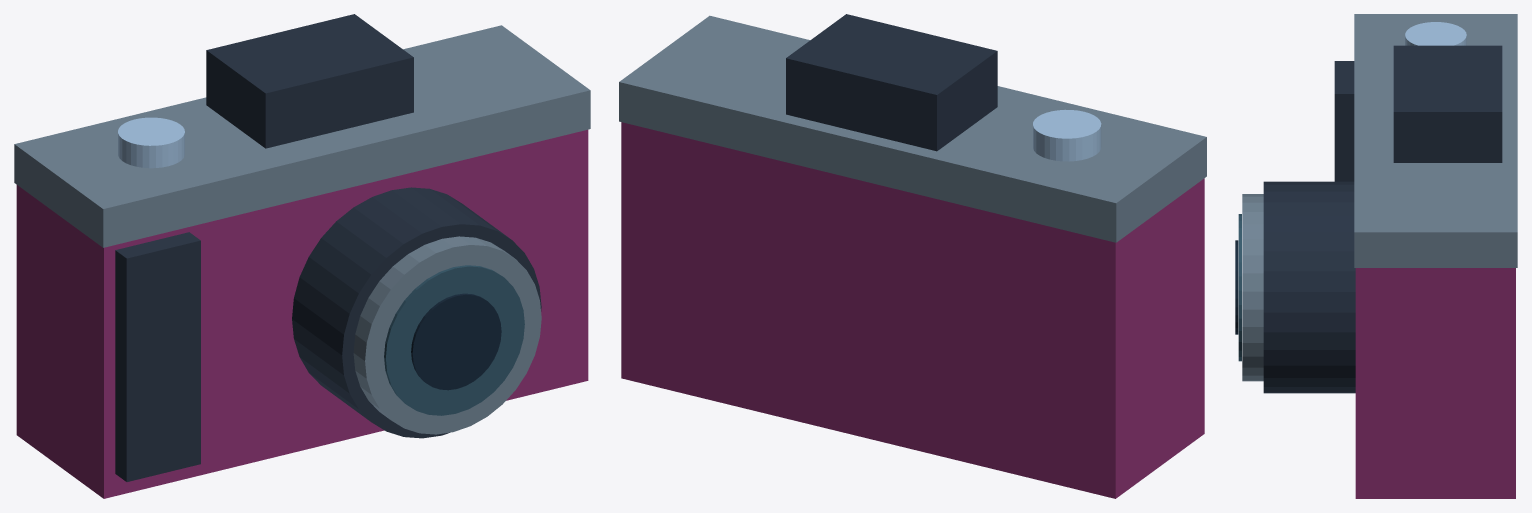
The model's file is camera.glb.
3 renders of one model, left to right at view 1: azimuth 30°, elevation 25°; view 2: azimuth 150°, elevation 25°; view 3: azimuth 270°, elevation 25°, orthographic. The views are drawn at different scales.
Visible parts, largest first — view 1: body, silver top, viewfinder, grip, lens barrel, lens ring, lens face, inner glass, shutter; view 2: body, silver top, viewfinder, shutter; view 3: body, silver top, lens barrel, viewfinder, lens ring, grip, shutter, lens face, inner glass.
Part boxes in pixels (<box>): body: <box>16,129,588,498</box>; silver top: <box>14,25,590,247</box>; viewfinder: <box>206,14,413,148</box>; grip: <box>115,232,200,481</box>; lens barrel: <box>292,187,541,438</box>; lens ring: <box>353,236,541,434</box>; lens face: <box>384,265,524,415</box>; inner glass: <box>411,293,501,390</box>; shutter: <box>118,117,184,168</box>; body: <box>621,122,1204,498</box>; silver top: <box>619,15,1206,242</box>; viewfinder: <box>786,14,997,151</box>; shutter: <box>1033,109,1101,161</box>; body: <box>1355,268,1515,498</box>; silver top: <box>1354,14,1517,267</box>; lens barrel: <box>1263,181,1355,393</box>; viewfinder: <box>1393,45,1502,162</box>; lens ring: <box>1242,194,1263,381</box>; grip: <box>1334,61,1354,181</box>; shutter: <box>1405,22,1466,45</box>; lens face: <box>1238,214,1241,361</box>; inner glass: <box>1235,240,1238,334</box>.
Size of the model in its own units: 1.71 by 1.16 by 0.933.
